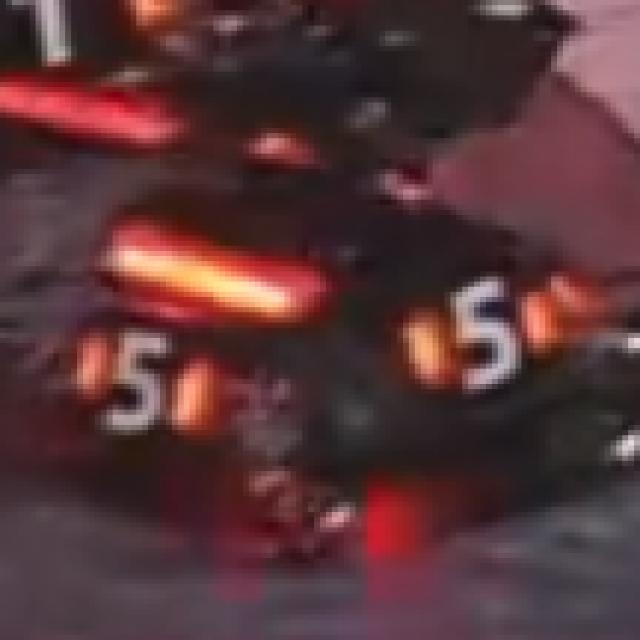R5: (409, 271, 557, 384), (71, 323, 213, 435)
